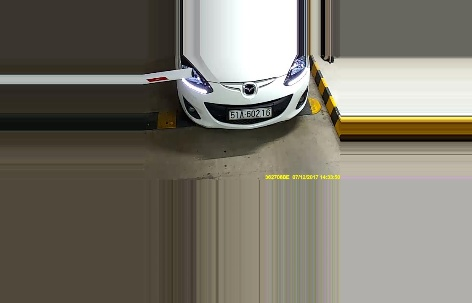plate: (227, 104, 272, 120)
